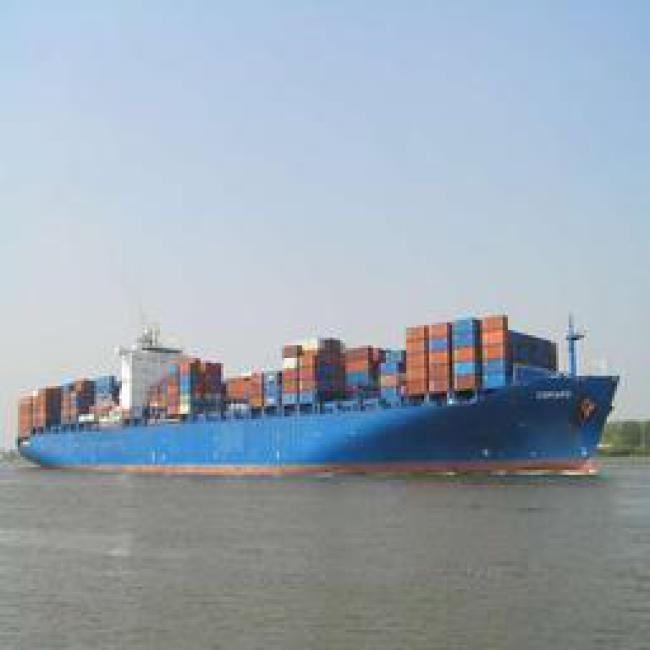Ship: (2, 341, 627, 489)
